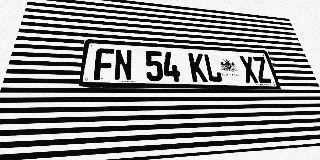4: (162, 51, 181, 82)
5: (145, 51, 164, 81)
F: (93, 48, 114, 81)
K: (188, 53, 208, 82)
L: (203, 54, 223, 82)
N: (114, 49, 132, 81)
X: (239, 56, 259, 83)
Z: (252, 56, 273, 83)
